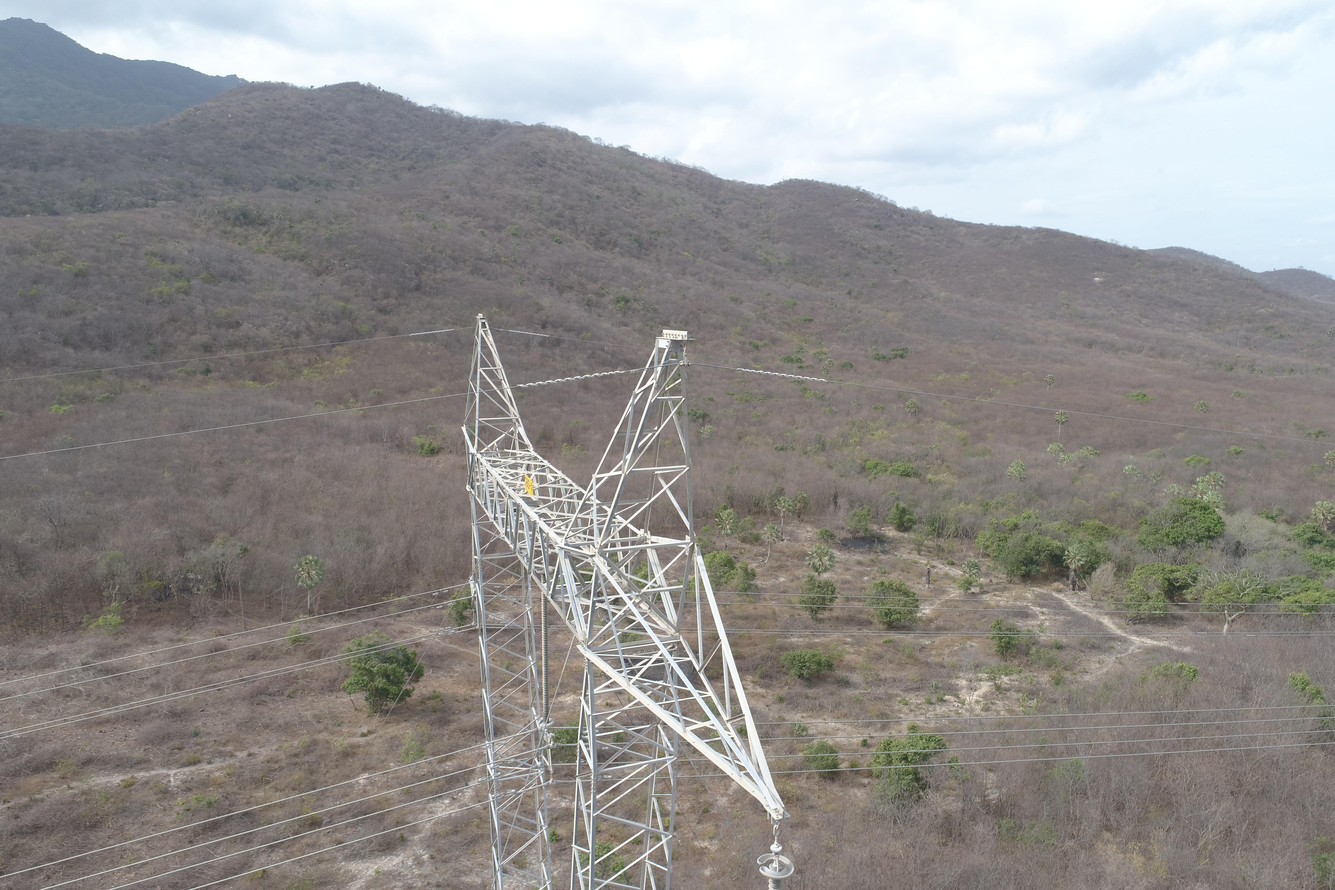power_tower: (459, 313, 795, 889)
